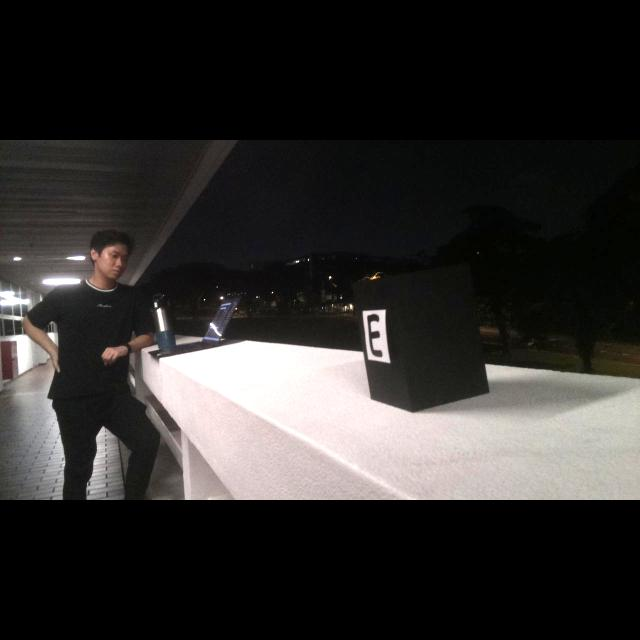E: (367, 315, 383, 358)
